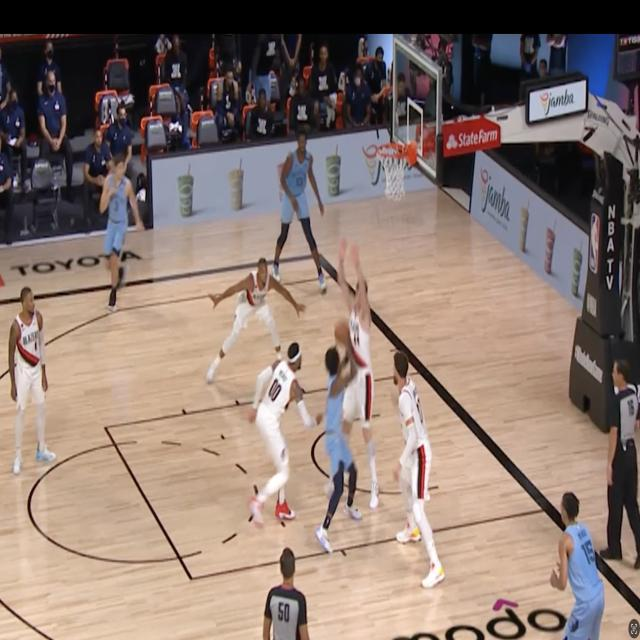foul: (324, 252, 386, 574)
no foul: (373, 330, 445, 598), (250, 328, 304, 556)
